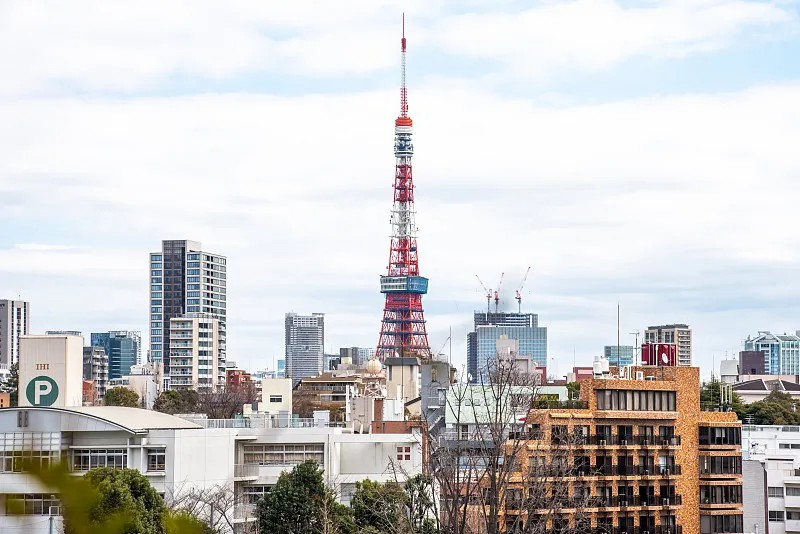Tokyo: (378, 11, 435, 363)
